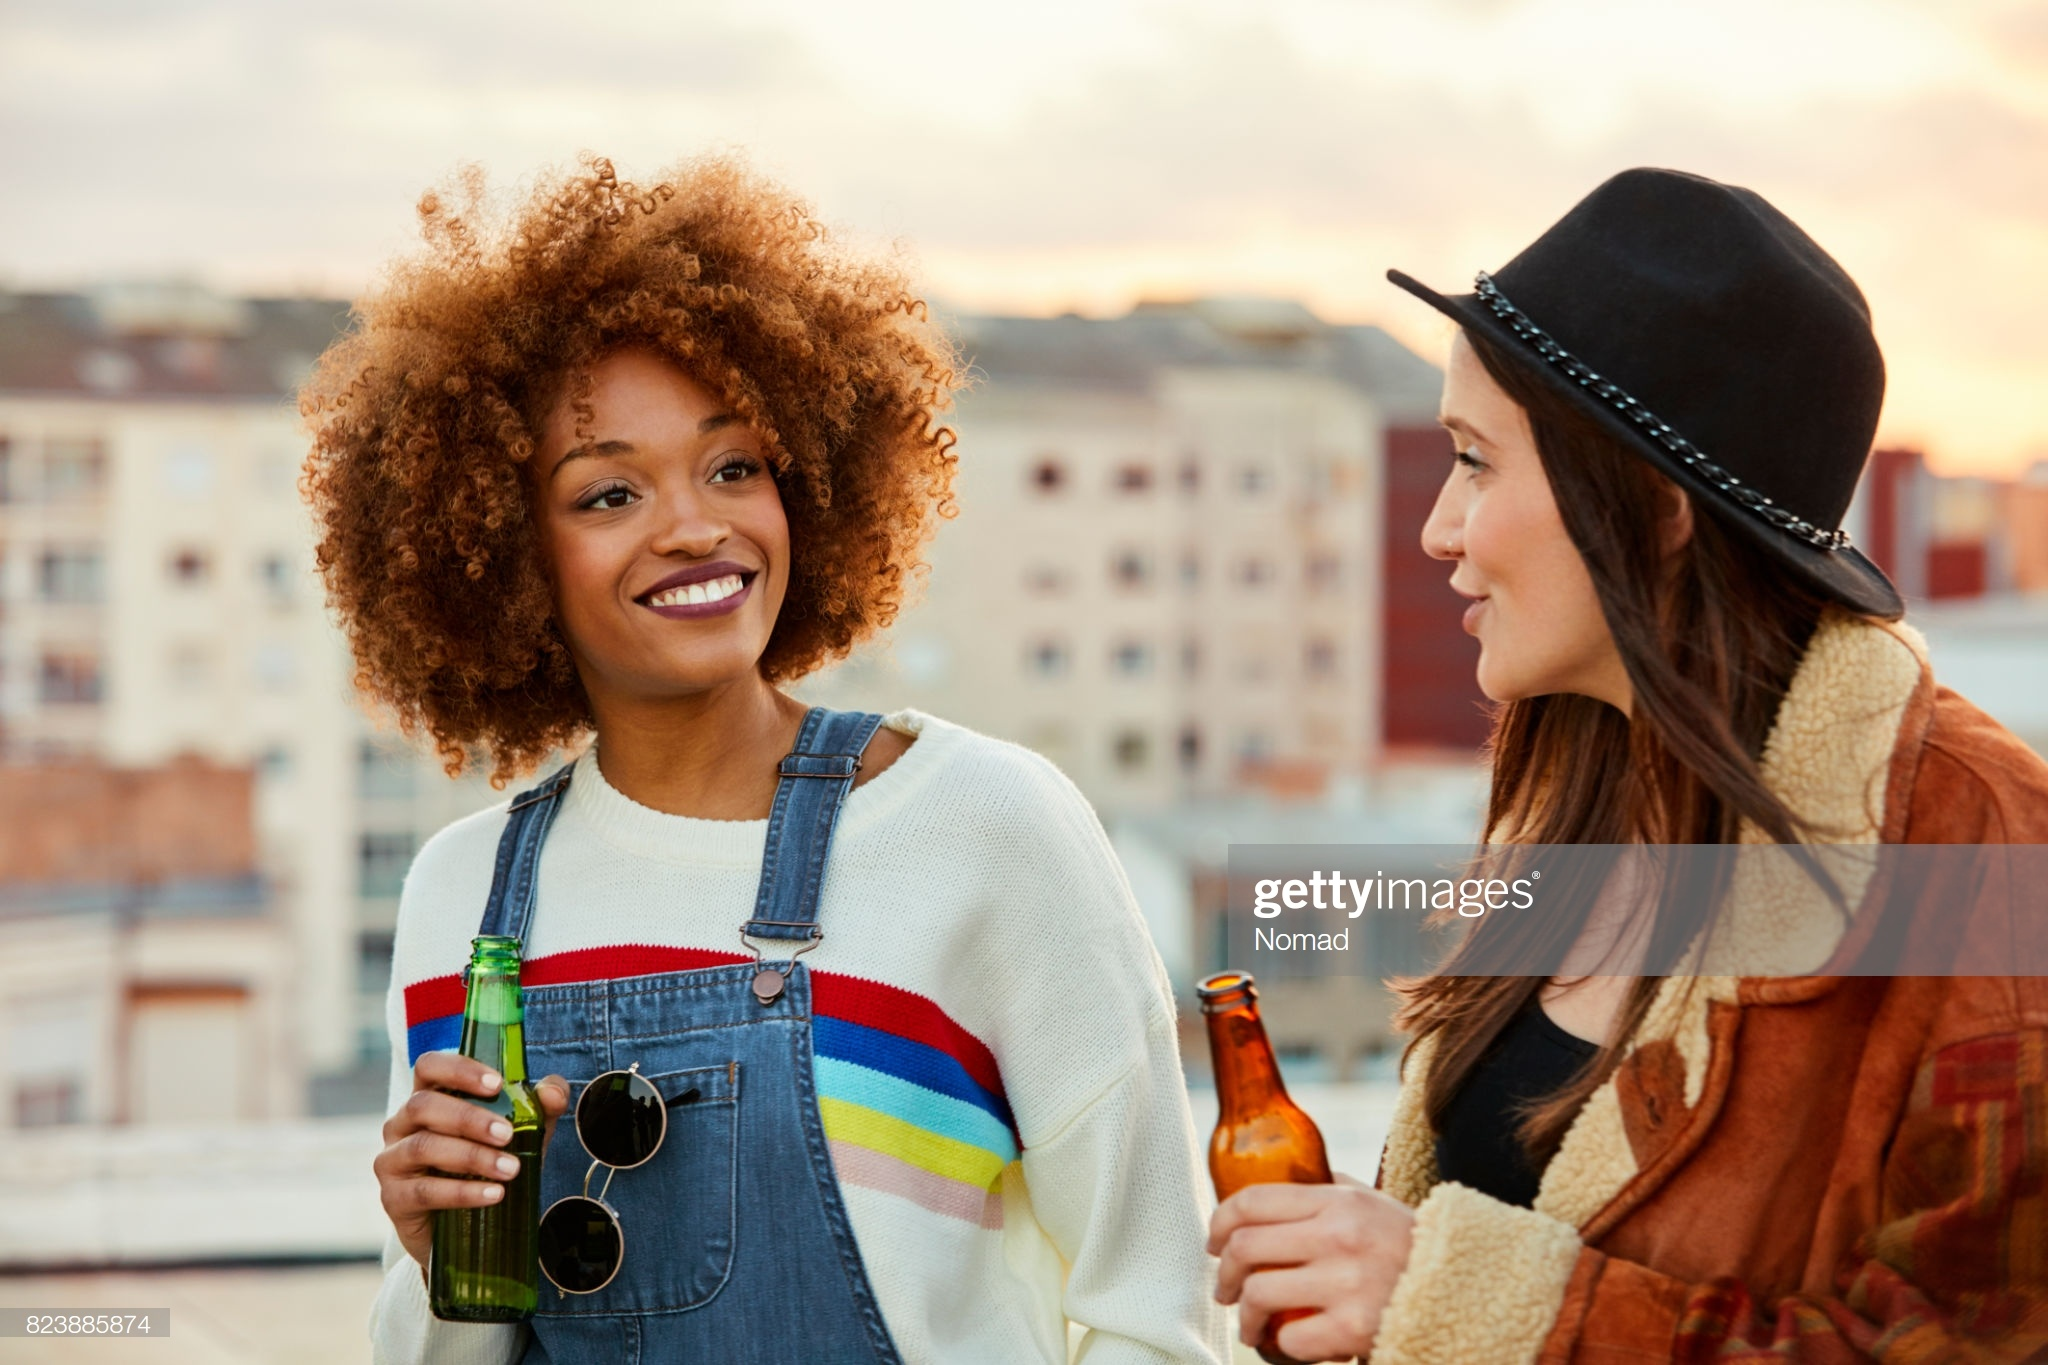beerBottle: (1192, 978, 1348, 1362), (435, 931, 545, 1324)
